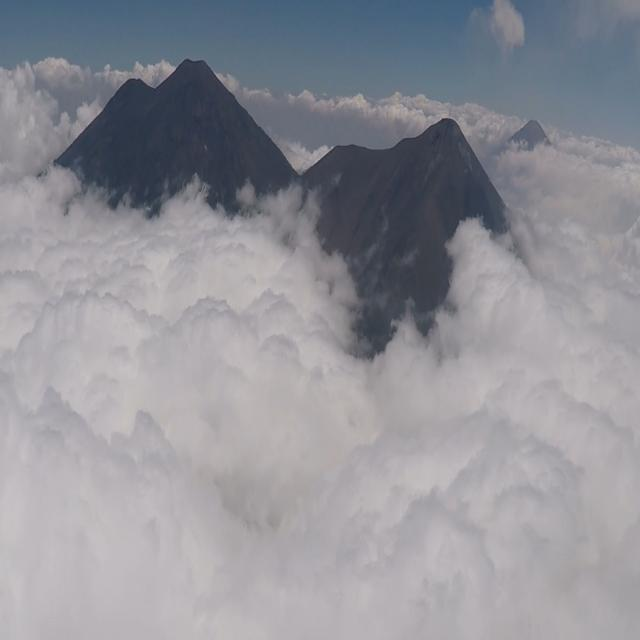Plume: (488, 0, 521, 50)
Summit: (395, 115, 477, 161)
